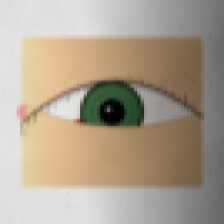hemorrhage_spot: (58, 98, 130, 156)
